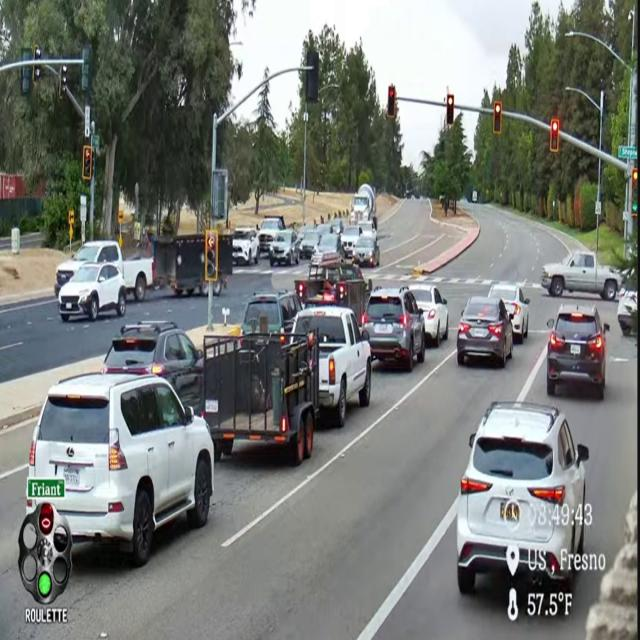car: (29, 373, 213, 566), (457, 402, 591, 594), (101, 321, 203, 414), (547, 304, 609, 399), (361, 287, 425, 370), (457, 296, 513, 367), (58, 264, 126, 321), (242, 291, 301, 343), (409, 284, 448, 346), (489, 284, 529, 343), (269, 230, 299, 266), (232, 228, 259, 265), (617, 287, 637, 335), (352, 235, 379, 267), (341, 225, 362, 258), (315, 233, 343, 257), (299, 228, 320, 259), (357, 221, 376, 239), (331, 217, 344, 235), (315, 223, 332, 235)
traffic signal: (305, 50, 319, 103), (205, 230, 218, 281), (39, 504, 54, 535), (81, 46, 91, 92), (82, 145, 93, 181), (20, 66, 32, 95), (387, 85, 396, 119), (493, 101, 502, 135), (632, 167, 638, 217), (550, 119, 559, 152), (59, 65, 67, 99), (446, 95, 454, 126), (32, 65, 41, 82)
truck: (203, 334, 319, 465), (293, 307, 371, 427), (54, 240, 154, 301), (295, 253, 372, 318), (541, 251, 622, 301), (154, 234, 207, 295), (350, 184, 377, 229), (258, 215, 286, 256)
